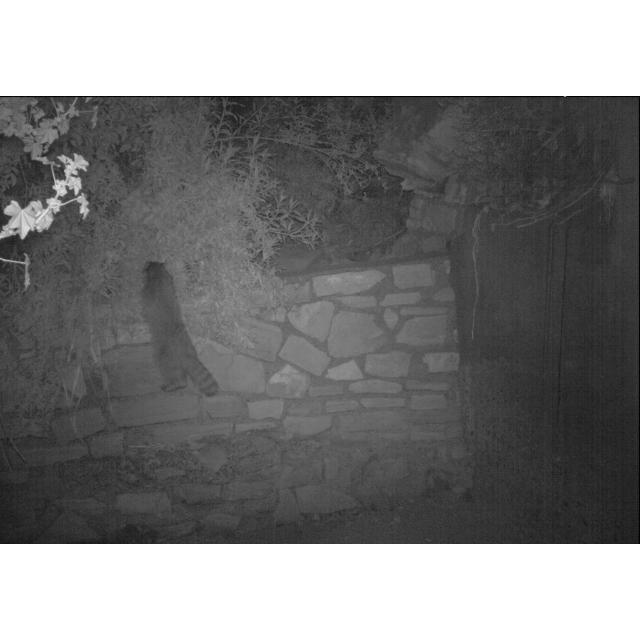animals: (135, 258, 221, 402)
